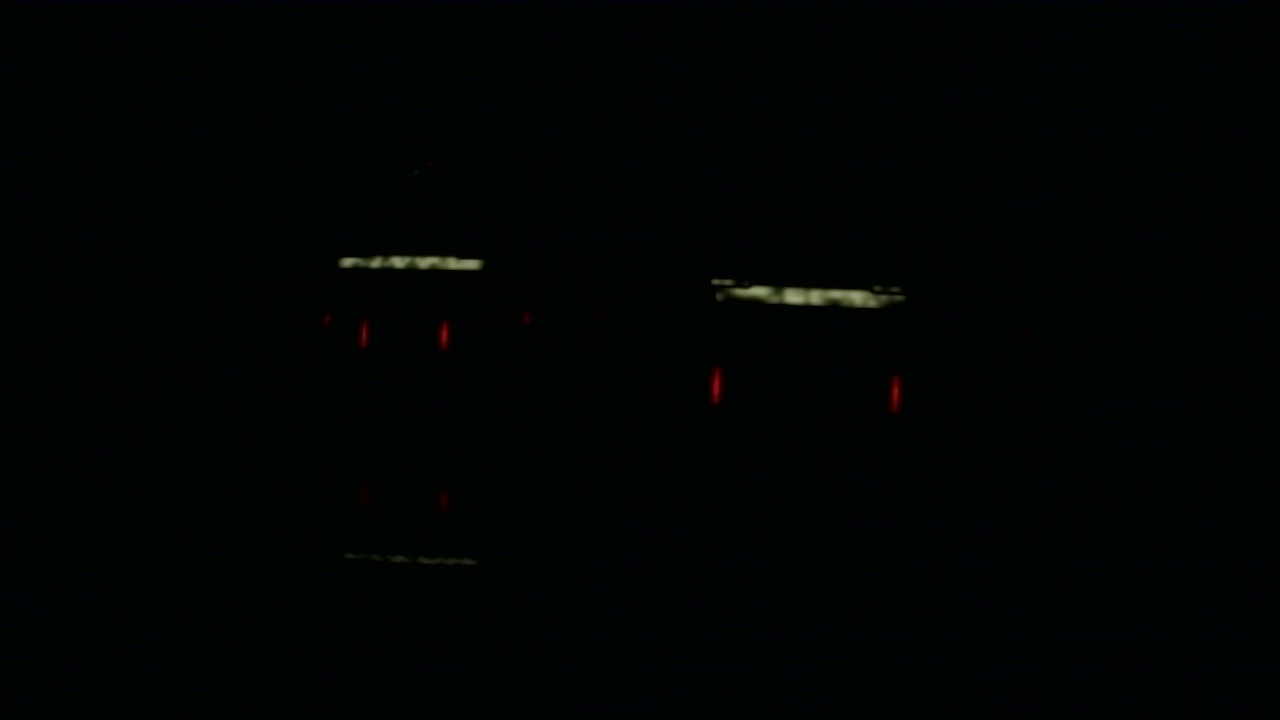lamp: (710, 365, 721, 406), (890, 374, 900, 415), (440, 318, 447, 348), (360, 319, 365, 349)
pair1: (360, 320, 448, 350)
pair2: (710, 366, 900, 415)
